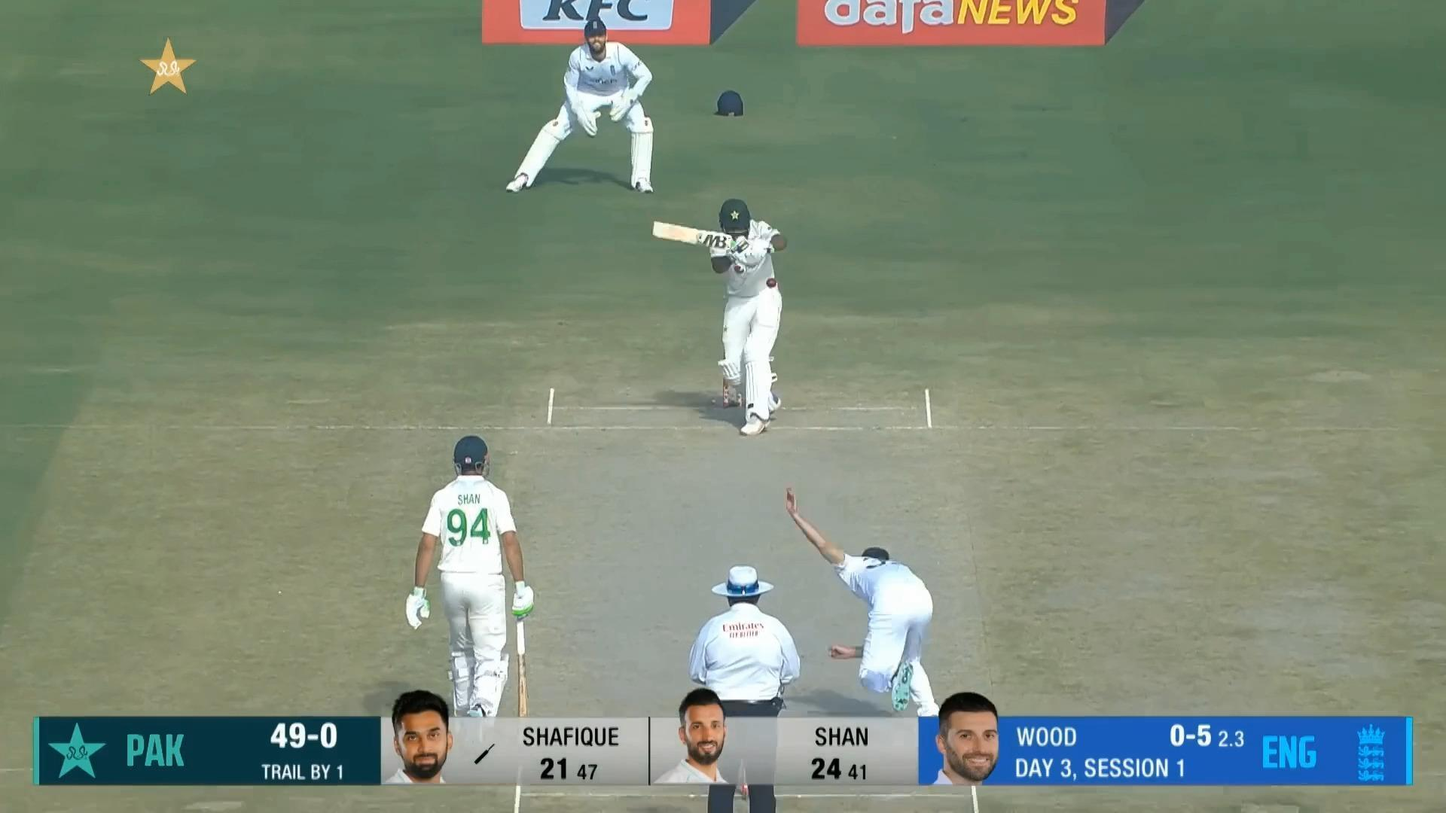BM 1: (651, 198, 788, 441)
BO: (781, 478, 943, 718)
